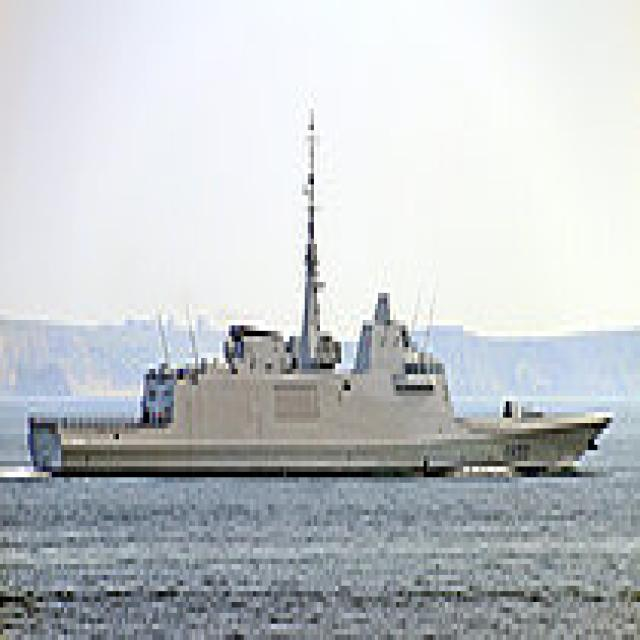Warship: (24, 92, 616, 477)
